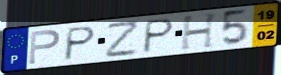5: (219, 7, 251, 48)
H: (179, 11, 220, 52)
P: (141, 17, 177, 55), (62, 25, 98, 62), (27, 28, 62, 66)
Z: (105, 19, 142, 59)
